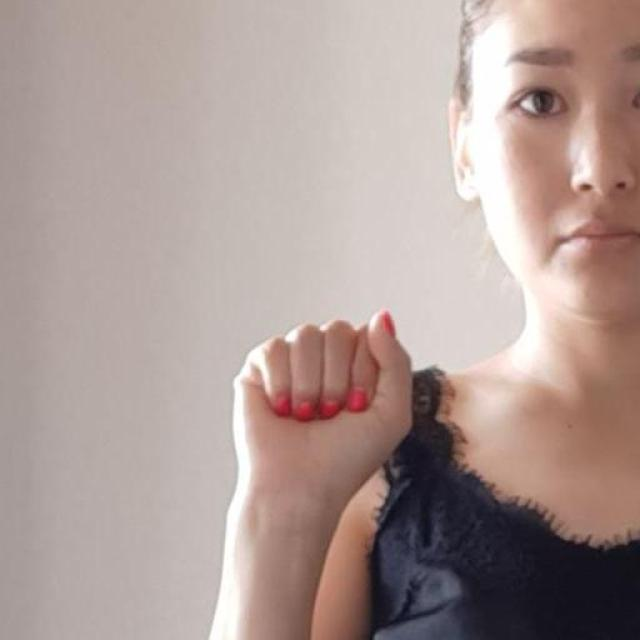hand: (230, 308, 415, 512)
